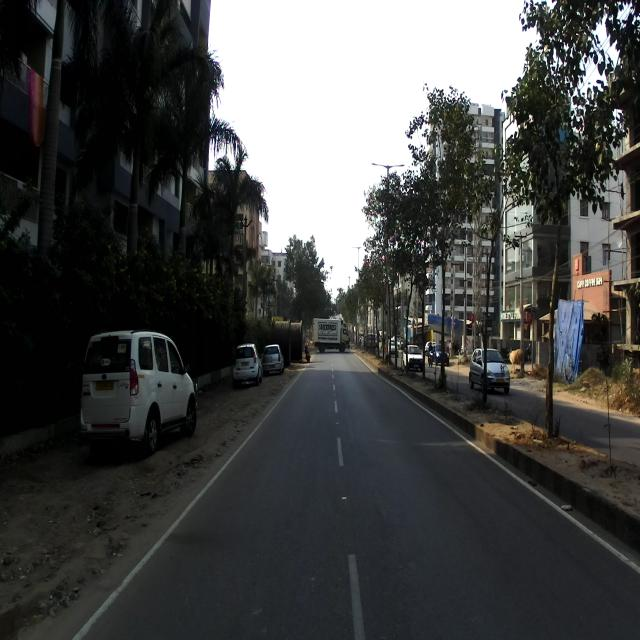car ahead at: (77, 321, 202, 457)
